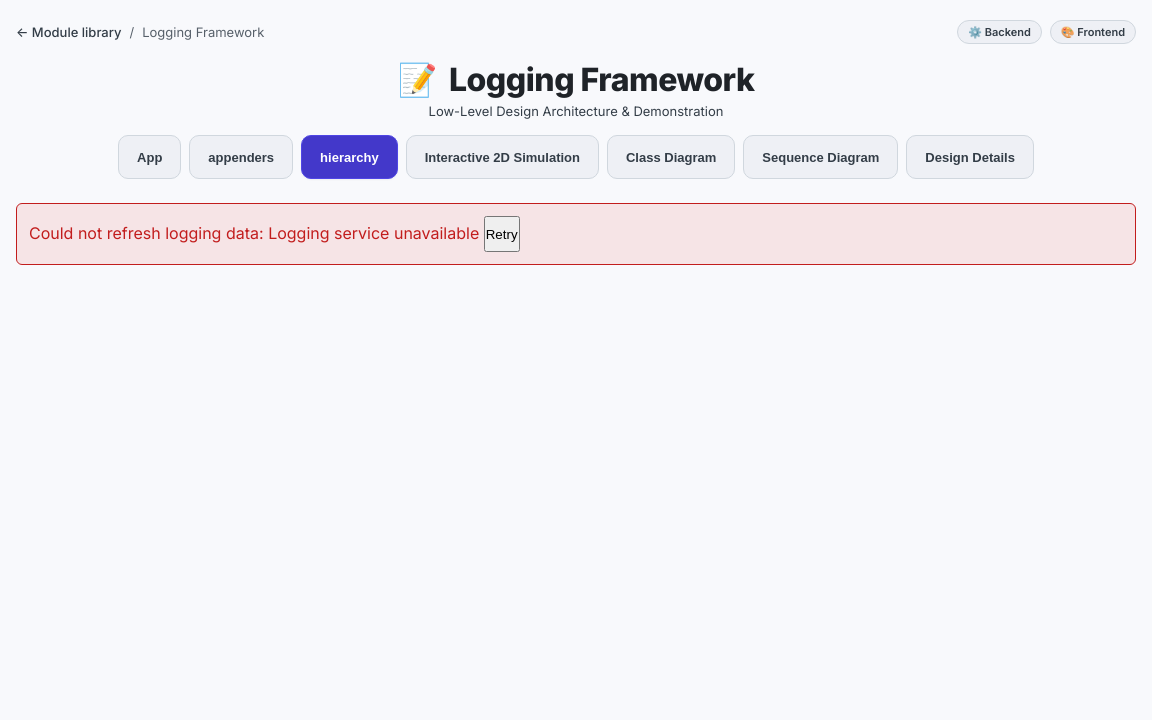
Scenario: Logging workspace › shows load failures and recovers with Retry
Expected: the message shows "Logging service unavailable", x1=268 y1=222 x2=479 y2=242
Click the button "Retry" at (502, 234), box x1=484 y1=216 x2=520 y2=252
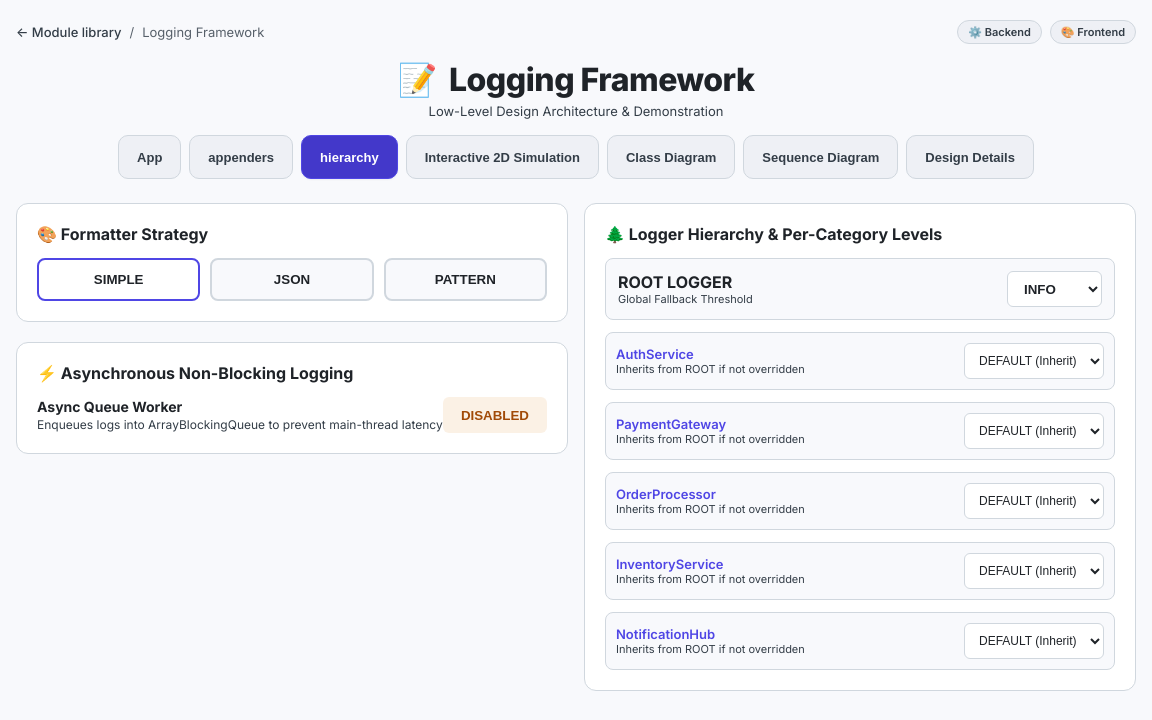
Expected: the dropdown named "Root logger threshold" shows "INFO", x1=1007 y1=271 x2=1102 y2=307
Expected: the message "Could not refresh logging data: Logging service unavailable Retry" is gone
